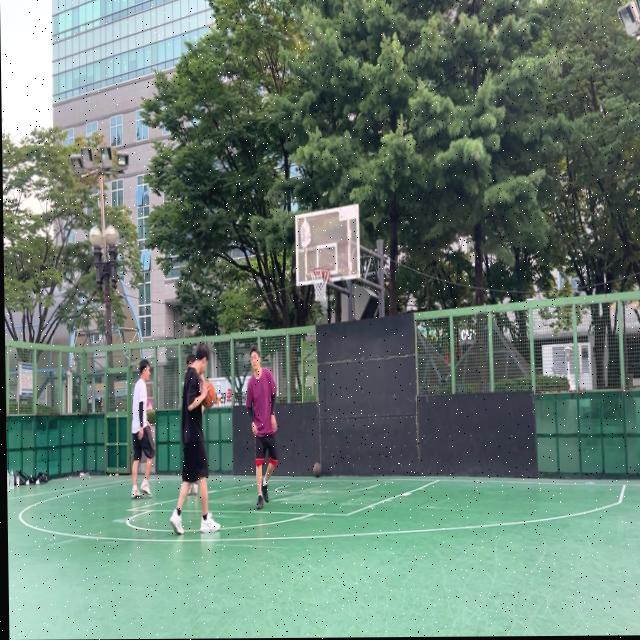basketball: (201, 381, 216, 408), (313, 462, 322, 478)
hoop: (310, 266, 331, 303)
